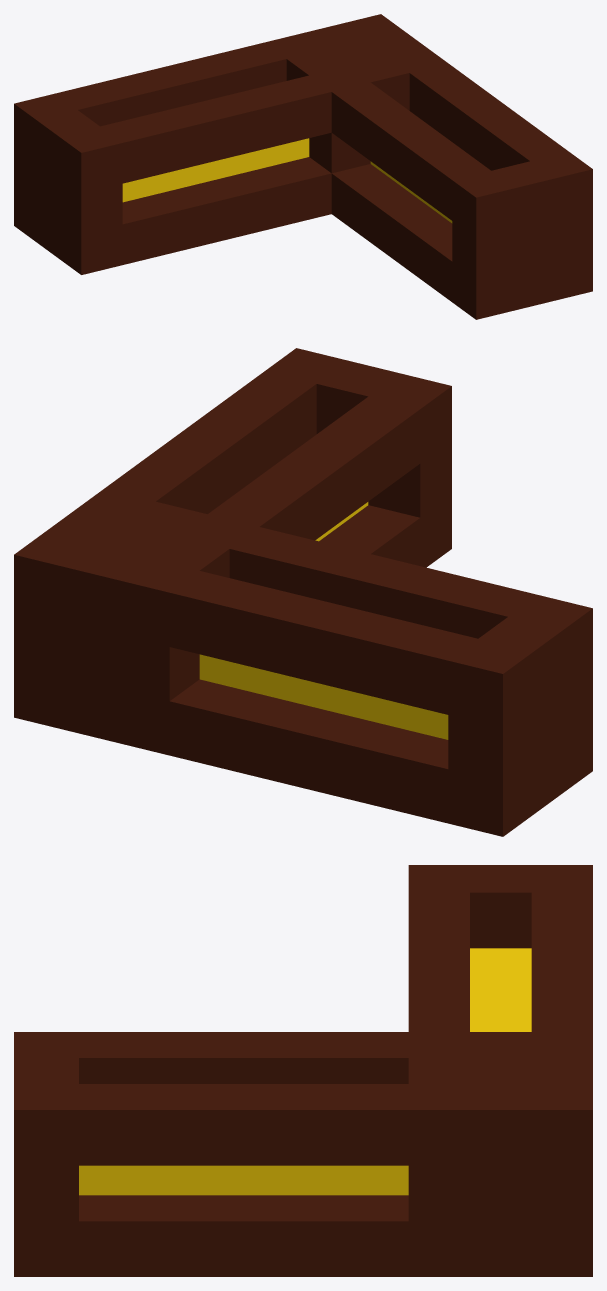
File: ConnectionCorner.fbx
The picture shows the model from 3 angles, top to bottom: view 1: azimuth 30°, elevation 25°; view 2: azimuth 150°, elevation 25°; view 3: azimuth 270°, elevation 25°; orthographic projection. The views are drawn at different scales.
Visible parts, largest first — view 1: Cube.005, Cube.001, Cube.003, Cube.007, Cube, Cube.006; view 2: Cube.005, Cube, Cube.001, Cube.007, Cube.003, Cube.006; view 3: Cube.001, Cube, Cube.005, Cube.003, Cube.004, Cube.007, Cube.002, Cube.006.
Part boxes in pixels (x1,y1,x2,y2): Cube.005: (55,42,331,264); Cube.001: (331,63,568,301); Cube.003: (452,152,592,319); Cube.007: (14,93,122,274); Cube: (264,14,447,173); Cube.006: (122,138,309,202); Cube.005: (169,527,537,823); Cube: (14,489,258,755); Cube.001: (104,371,420,565); Cube.007: (448,595,592,836); Cube.003: (265,348,451,567); Cube.006: (199,654,448,739); Cube.001: (79,1032,408,1276); Cube: (408,1032,592,1276); Cube.005: (408,892,592,1031); Cube.003: (14,1032,78,1276); Cube.004: (79,1165,408,1195); Cube.007: (408,865,592,948); Cube.002: (79,1165,408,1195); Cube.006: (470,948,531,1031).
Bounding box in the file's own units: 628 × 200 × 628.
